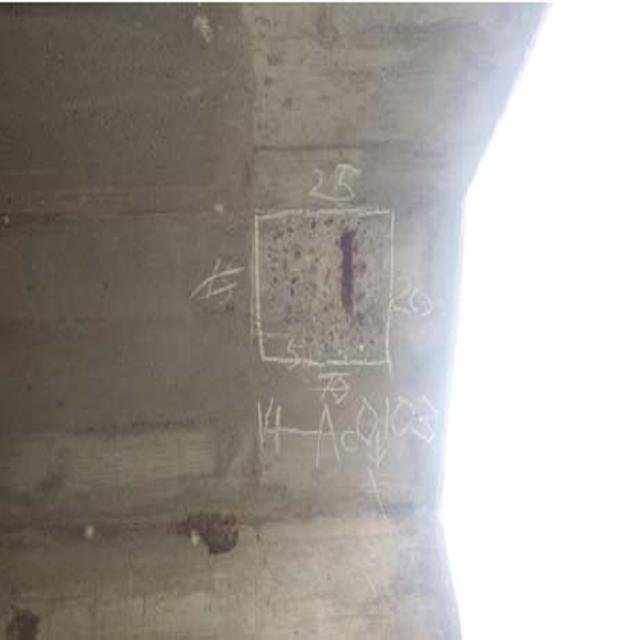spalling: (253, 189, 404, 384)
